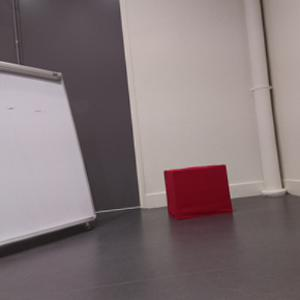big: (1, 63, 99, 245)
medium: (165, 164, 233, 219)
